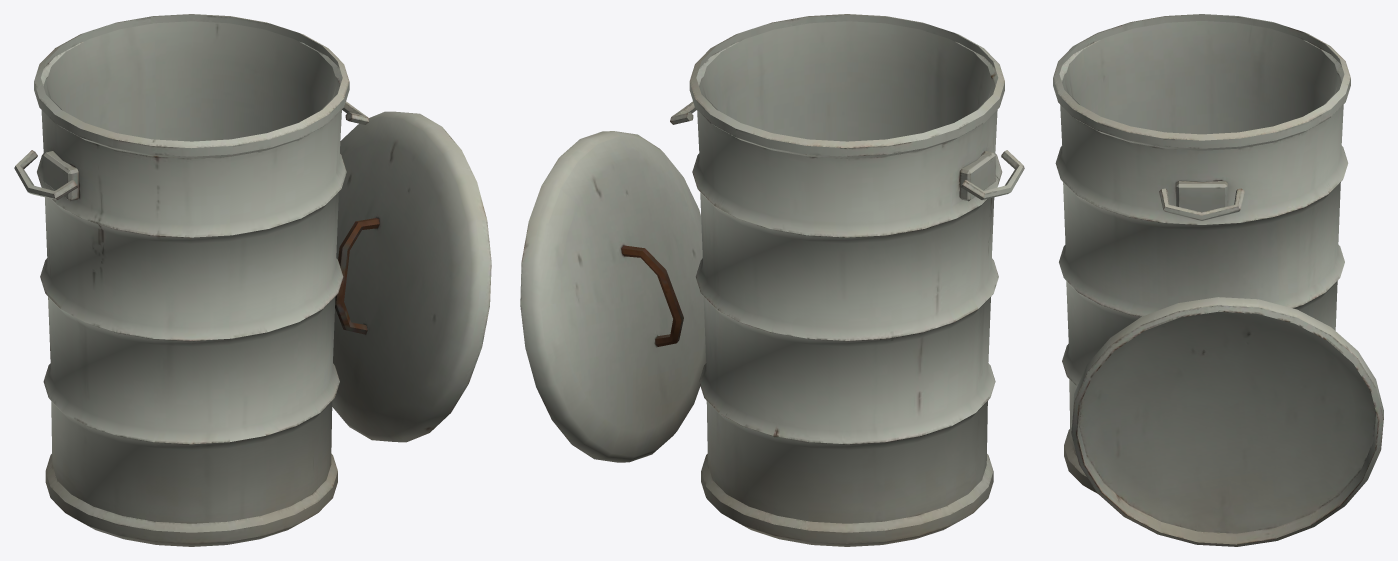
File: trash_can_open.glb
The picture shows the model from 3 angles, left to right: view 1: azimuth 30°, elevation 25°; view 2: azimuth 150°, elevation 25°; view 3: azimuth 270°, elevation 25°; orthographic projection. The views are drawn at different scales.
Visible parts, largest first — view 1: trash_can_open; view 2: trash_can_open; view 3: trash_can_open.
Boxes of the visible parts, <box> form: trash_can_open: <box>14,14,491,546</box>; trash_can_open: <box>520,14,1024,546</box>; trash_can_open: <box>1053,14,1383,546</box>.
Size of the model in its own units: 0.7209 by 0.668 by 0.5155.
Materials: 1 (1 with a texture image).
